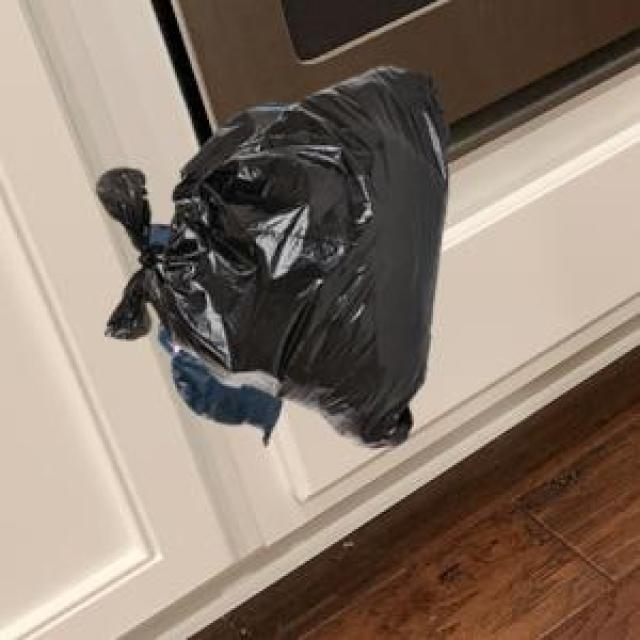waste: (101, 69, 448, 443)
